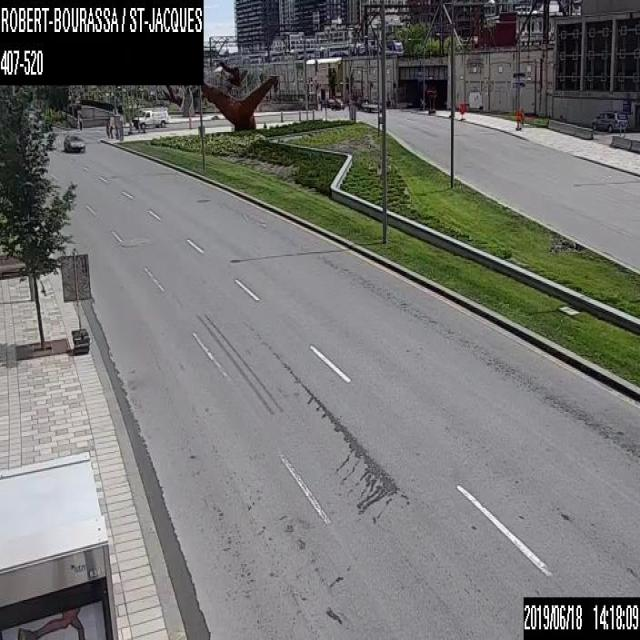construction: (516, 108, 523, 130), (458, 102, 464, 118)
pedestrian: (105, 122, 109, 138), (110, 124, 113, 137)
vehicle: (131, 104, 167, 128), (591, 110, 628, 131), (62, 133, 84, 151), (330, 96, 344, 110)
